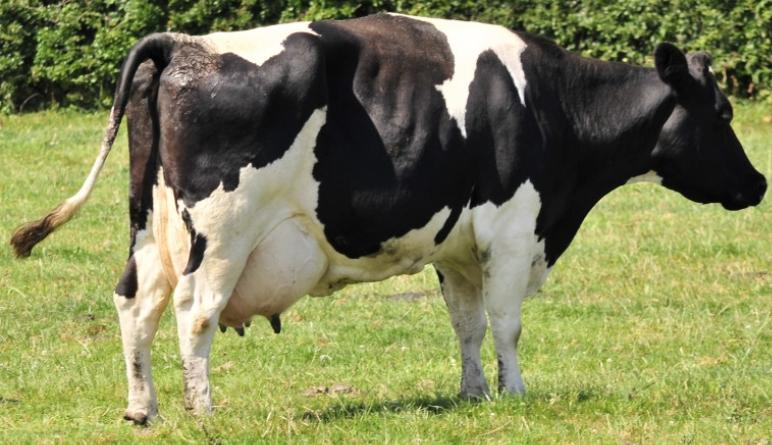cow: (18, 15, 766, 423)
